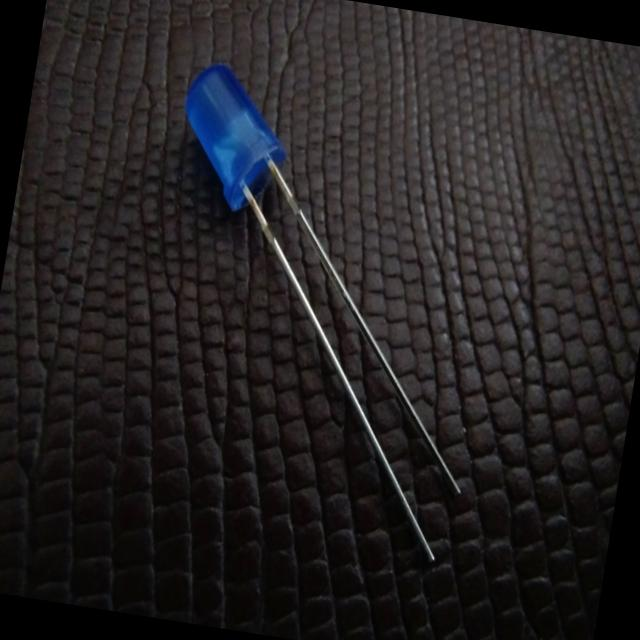blue_led: (169, 57, 300, 220)
